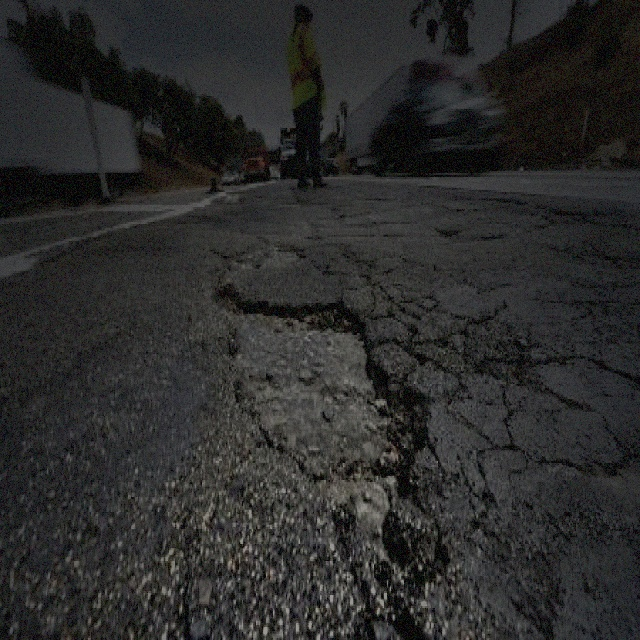pothole: (210, 277, 434, 491), (331, 503, 448, 638), (220, 239, 303, 273)
